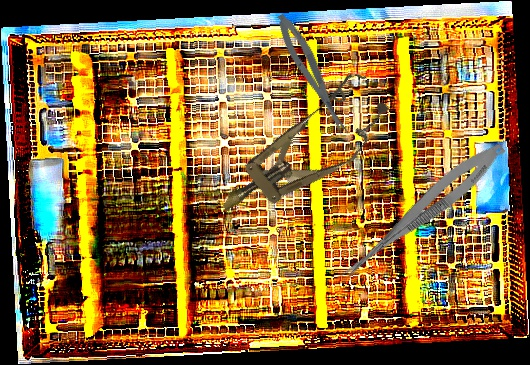Micro Scissor: (331, 133, 511, 295), (270, 9, 354, 142)
Speculum: (202, 65, 402, 238)
